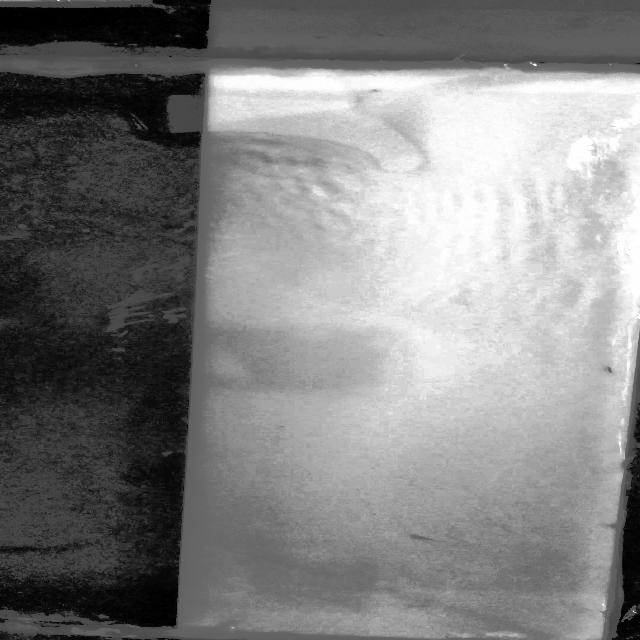shrimp: (598, 357, 630, 382), (406, 530, 458, 545)
